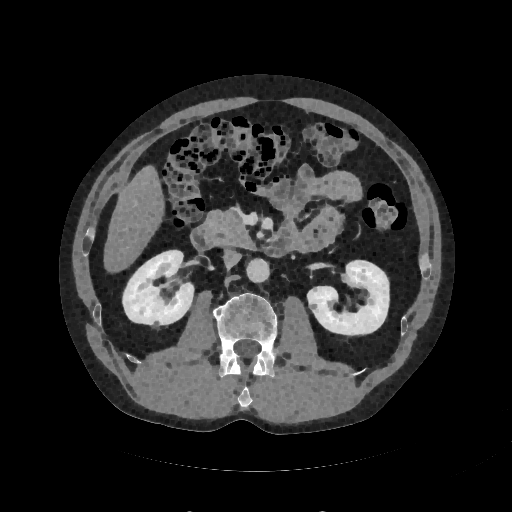Lesion: (151, 318, 160, 329)
